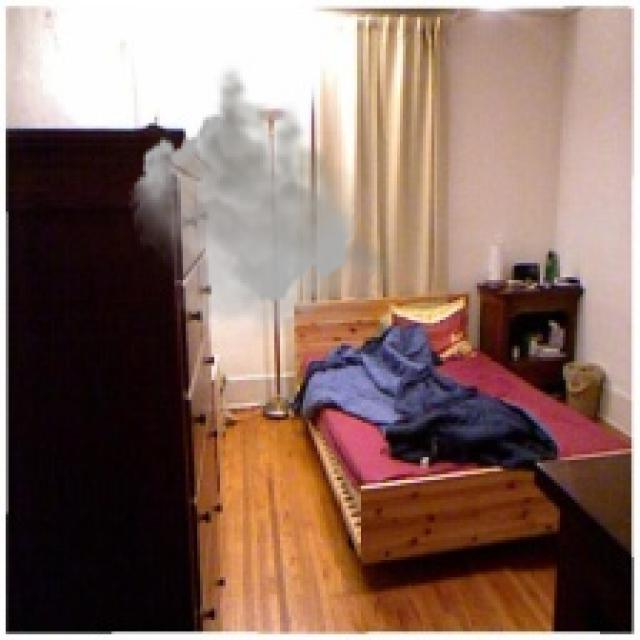smoke: (129, 60, 394, 340)
